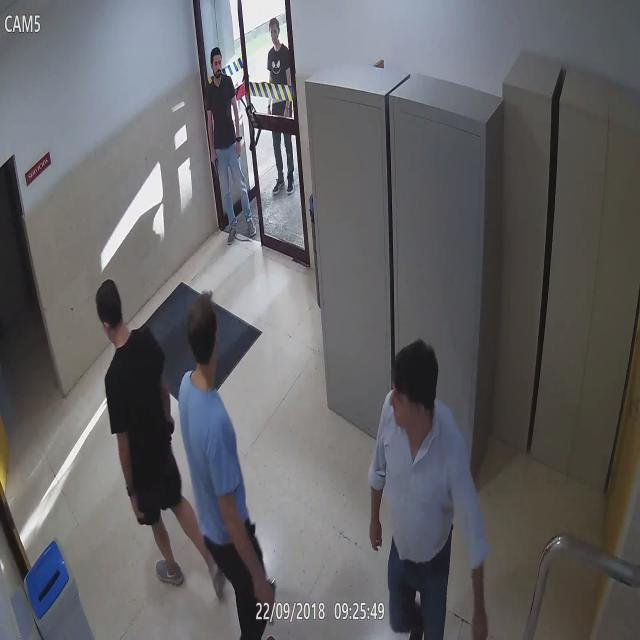Gun: (262, 564, 286, 631), (162, 402, 173, 456), (209, 150, 220, 186)
